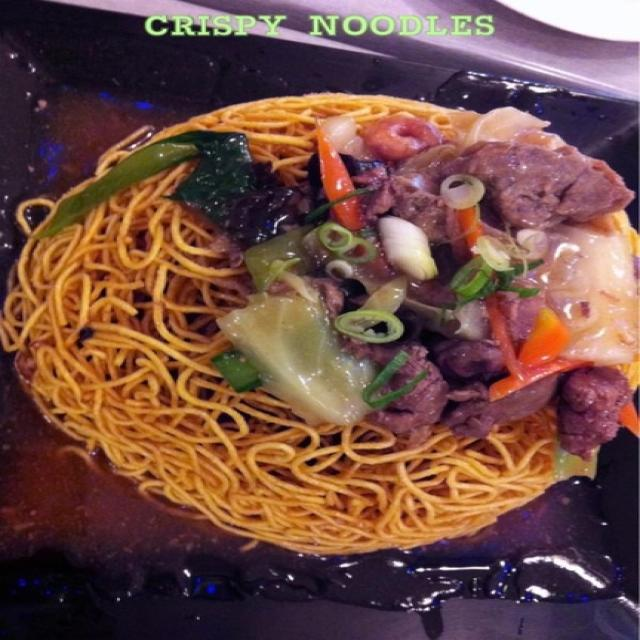面条主食: (23, 55, 630, 586)
